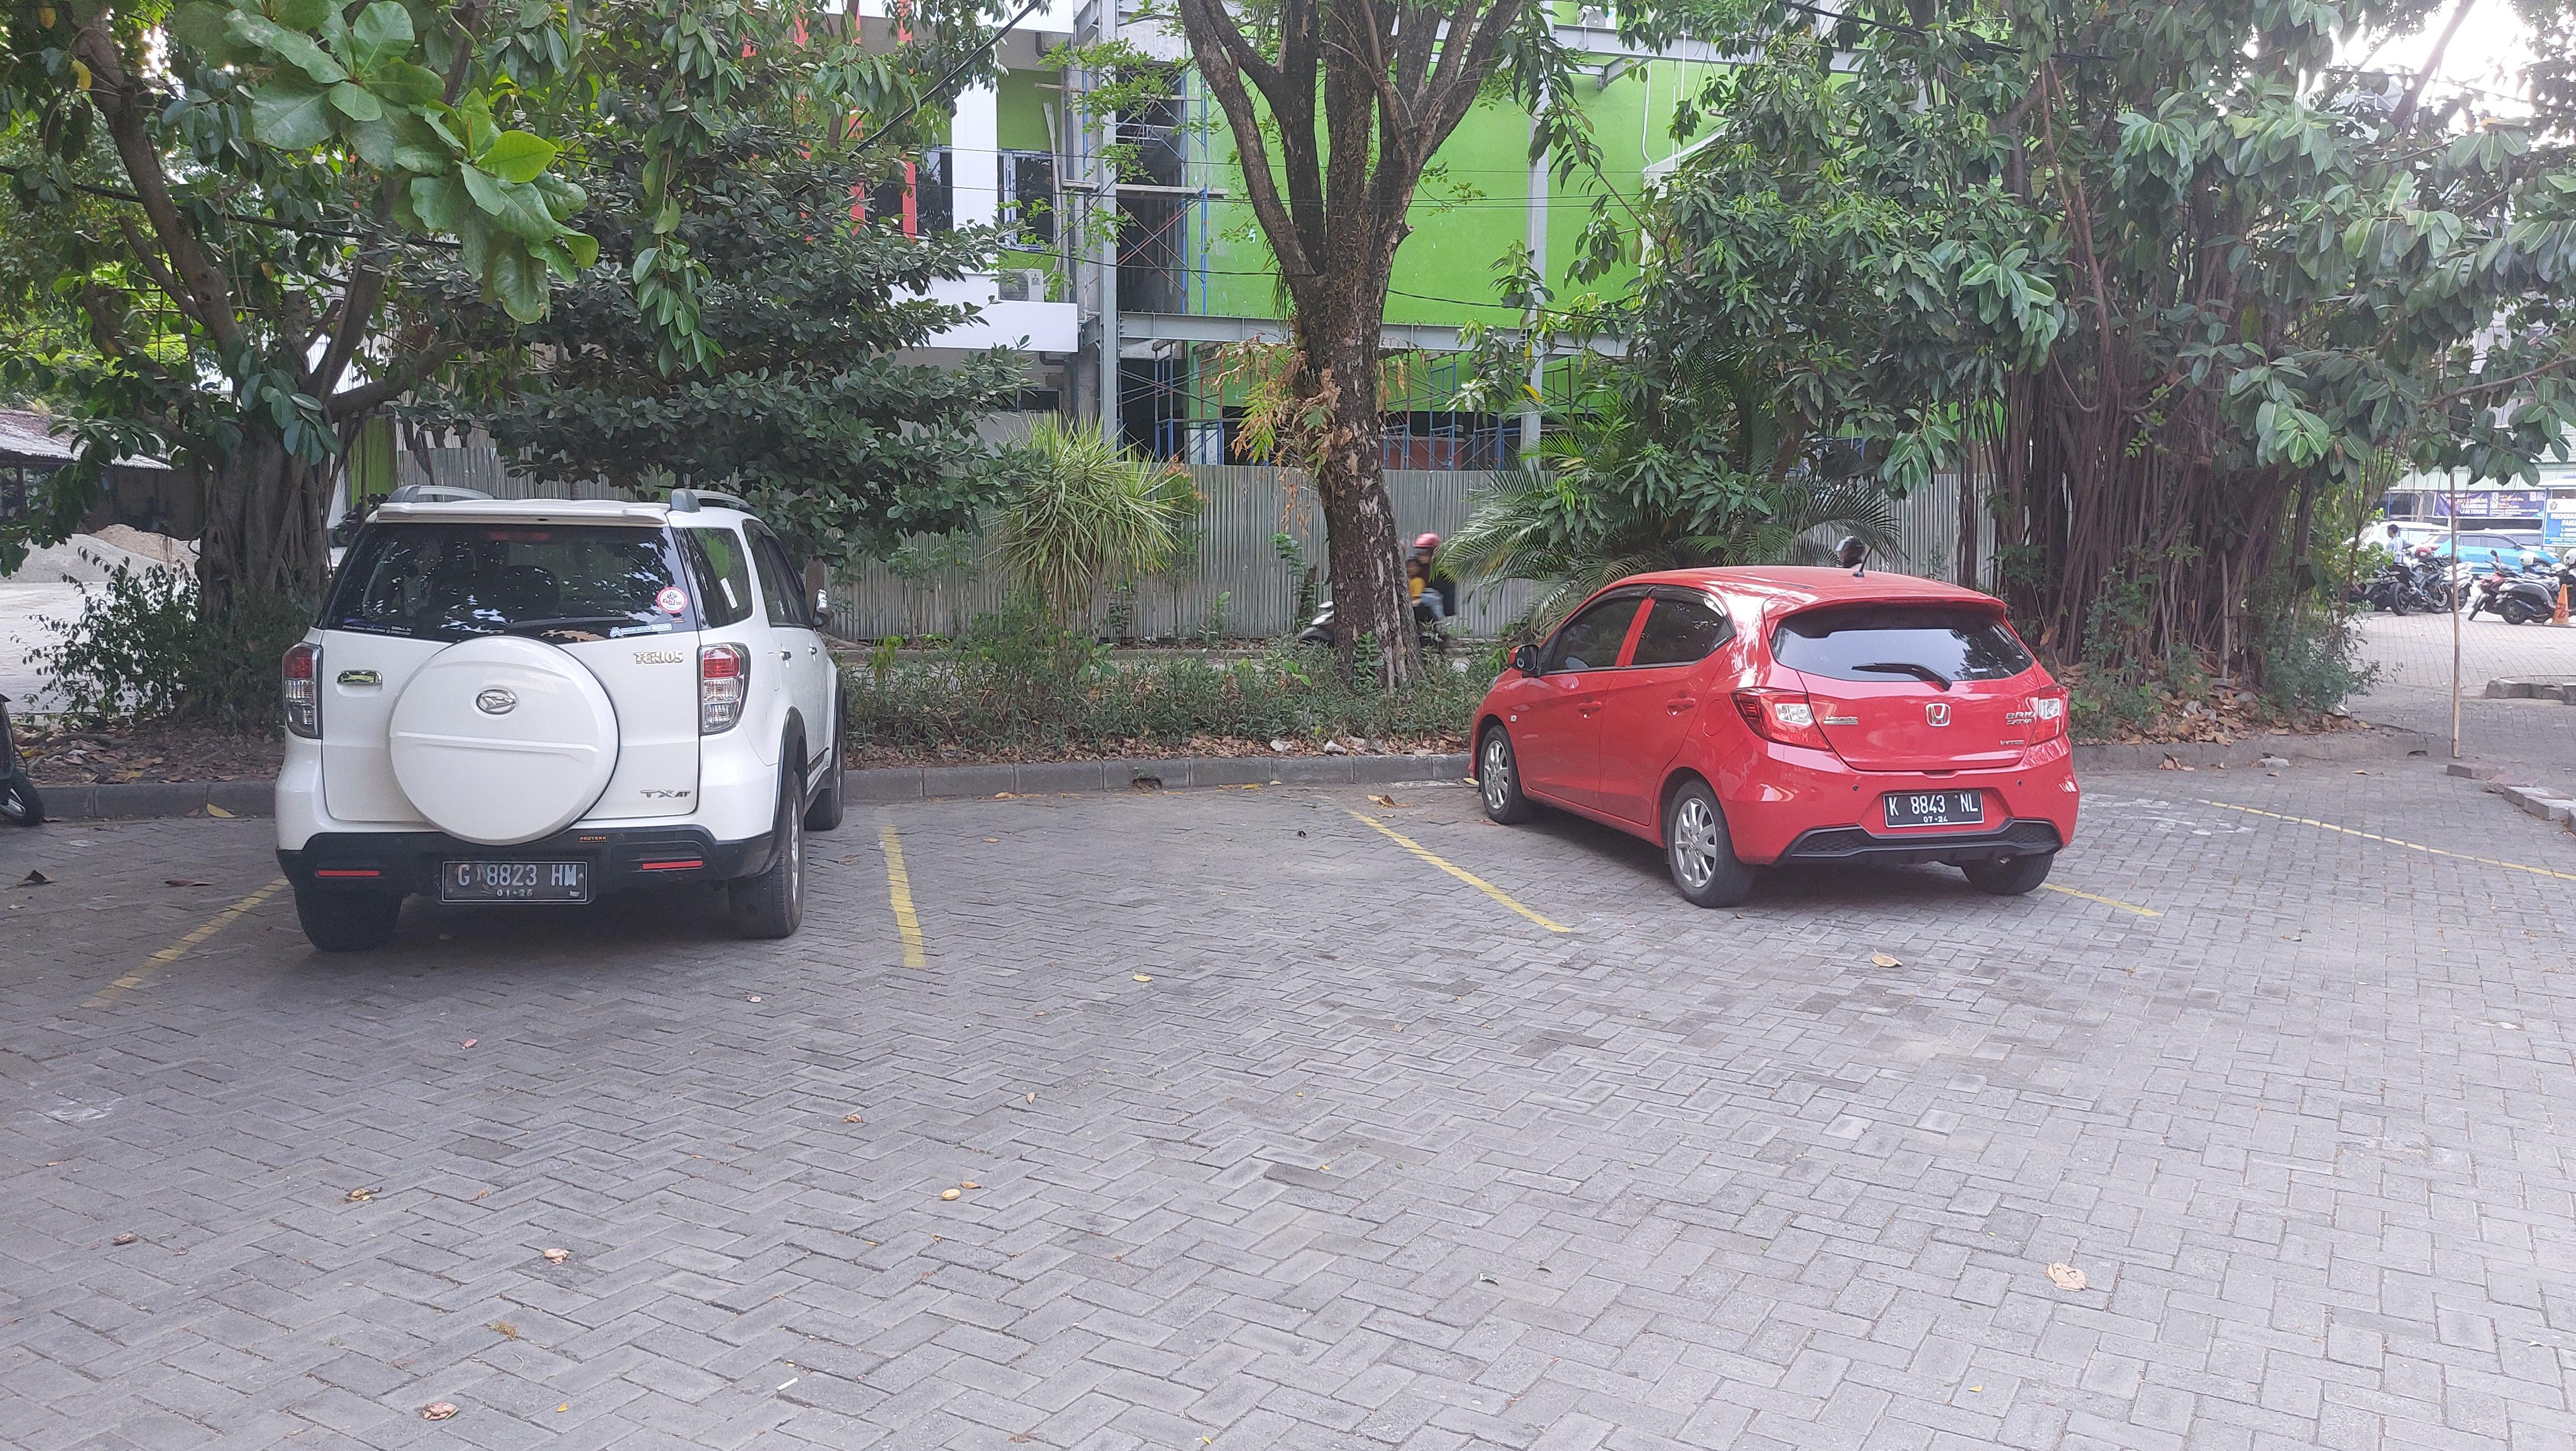empty: (878, 782, 1557, 958), (2078, 775, 2573, 917)
occupied: (97, 493, 919, 1000), (1305, 571, 2152, 929)
